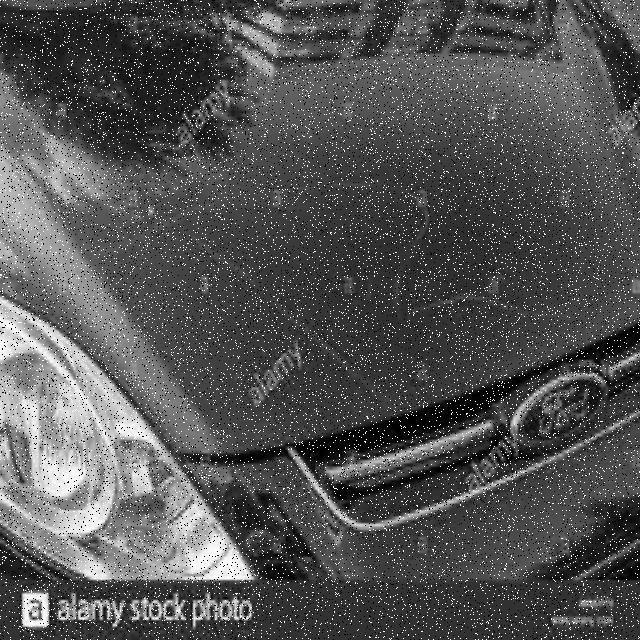bonnet-dent: (1, 43, 638, 429)
